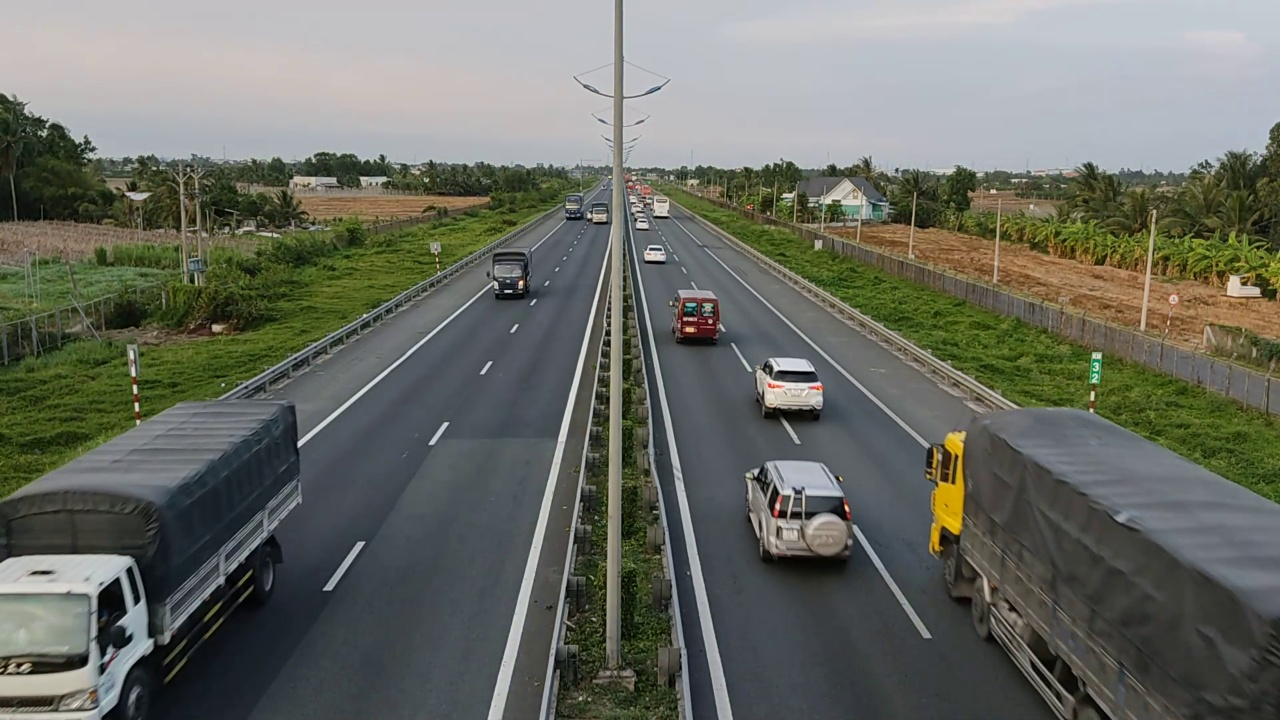car: (738, 448, 858, 573), (753, 357, 825, 419), (670, 282, 722, 348), (643, 244, 667, 263)
truck: (923, 405, 1279, 715), (1, 397, 304, 718), (487, 244, 534, 303)
